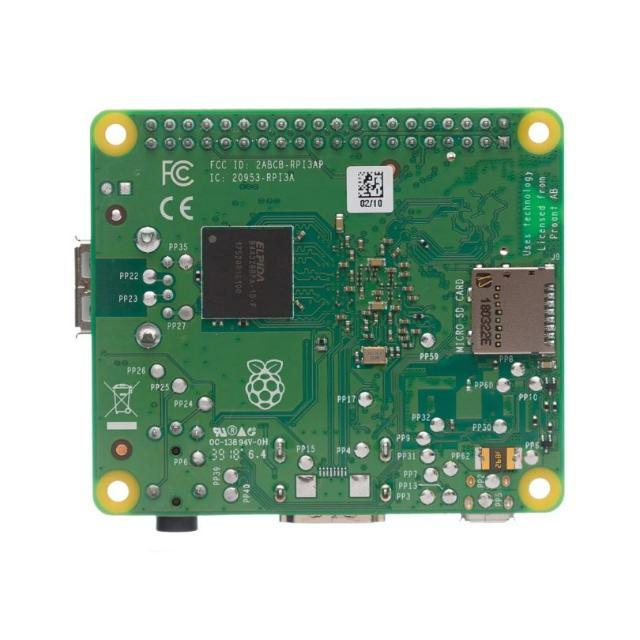Raspberry-Pi-3-A-: (86, 109, 564, 532)
